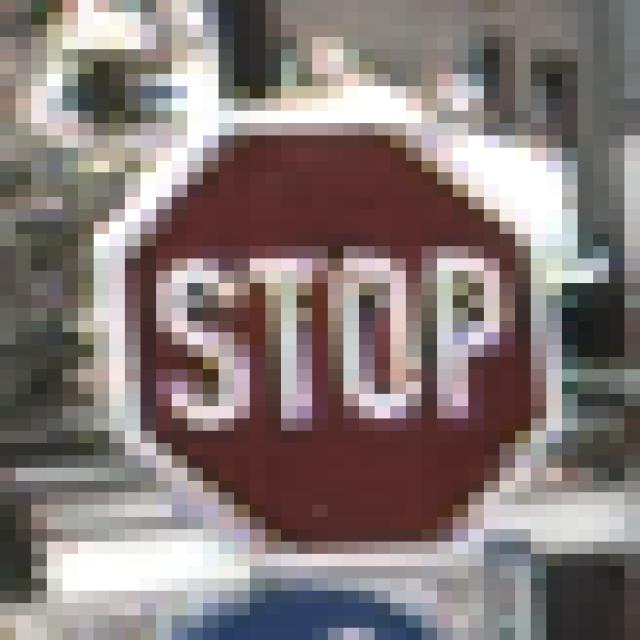STOP: (95, 75, 563, 567)
